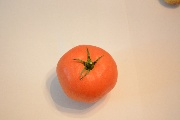tomato: (54, 45, 118, 103)
